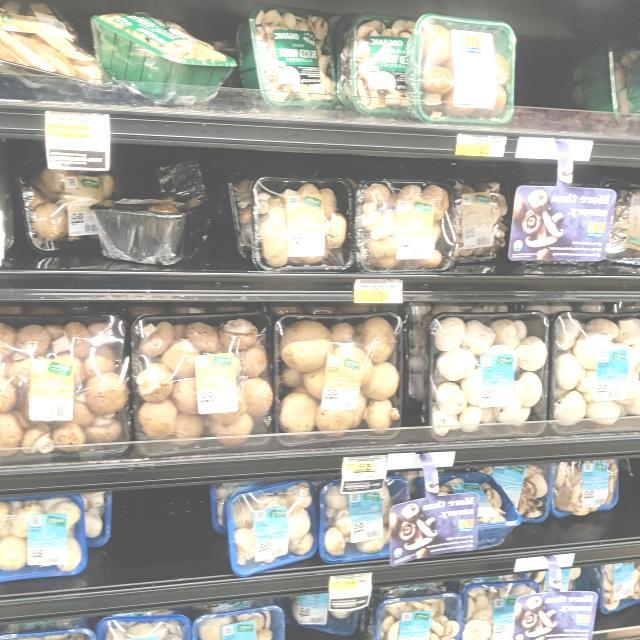mushroom: (130, 310, 275, 453), (0, 305, 125, 461), (276, 312, 404, 440), (424, 316, 546, 438), (87, 6, 231, 98), (542, 309, 640, 436), (406, 15, 514, 120), (230, 10, 336, 102), (226, 479, 317, 576), (336, 15, 422, 111), (249, 183, 346, 267), (0, 492, 88, 582), (309, 479, 400, 562), (351, 186, 446, 263), (546, 454, 620, 524), (461, 580, 538, 640), (372, 593, 452, 640), (190, 603, 284, 640), (592, 548, 640, 612), (92, 612, 190, 640)
